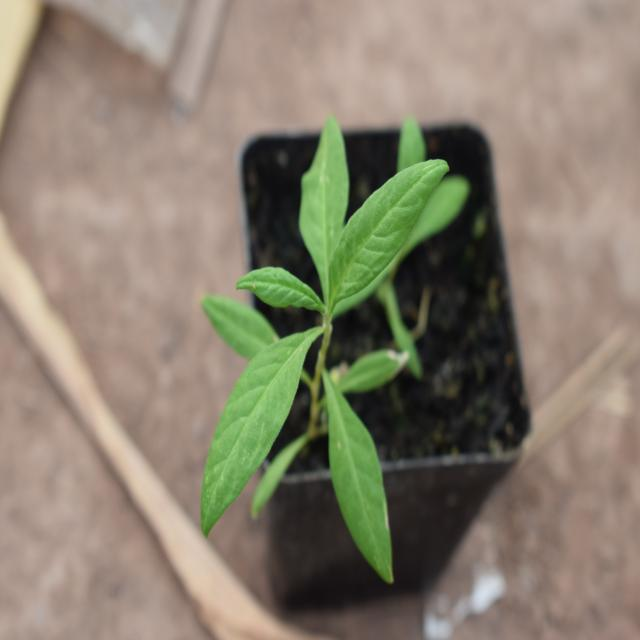white_smart_weed: (182, 139, 460, 602)
